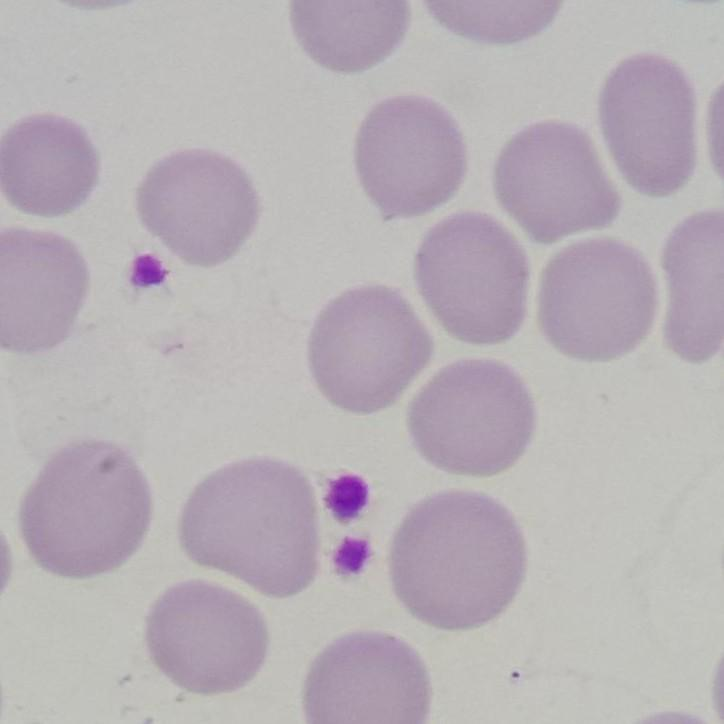Uninfected: (178, 451, 326, 597), (387, 489, 525, 631), (20, 434, 146, 582), (308, 287, 436, 416), (413, 207, 524, 345), (597, 51, 695, 205), (138, 144, 259, 267), (497, 121, 615, 246), (357, 92, 468, 221), (412, 357, 529, 479), (142, 581, 265, 695), (542, 237, 652, 360), (2, 224, 95, 357), (303, 631, 432, 724), (0, 117, 99, 216)
